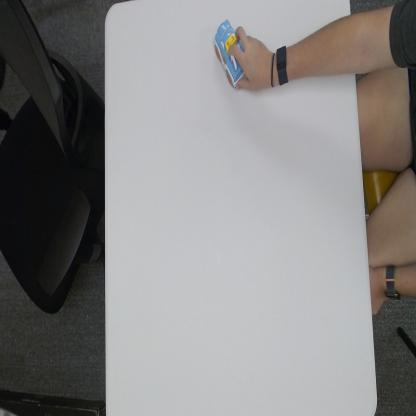Arm: (290, 16, 356, 80)
Car: (214, 17, 244, 90)
Hand: (228, 26, 274, 93)
